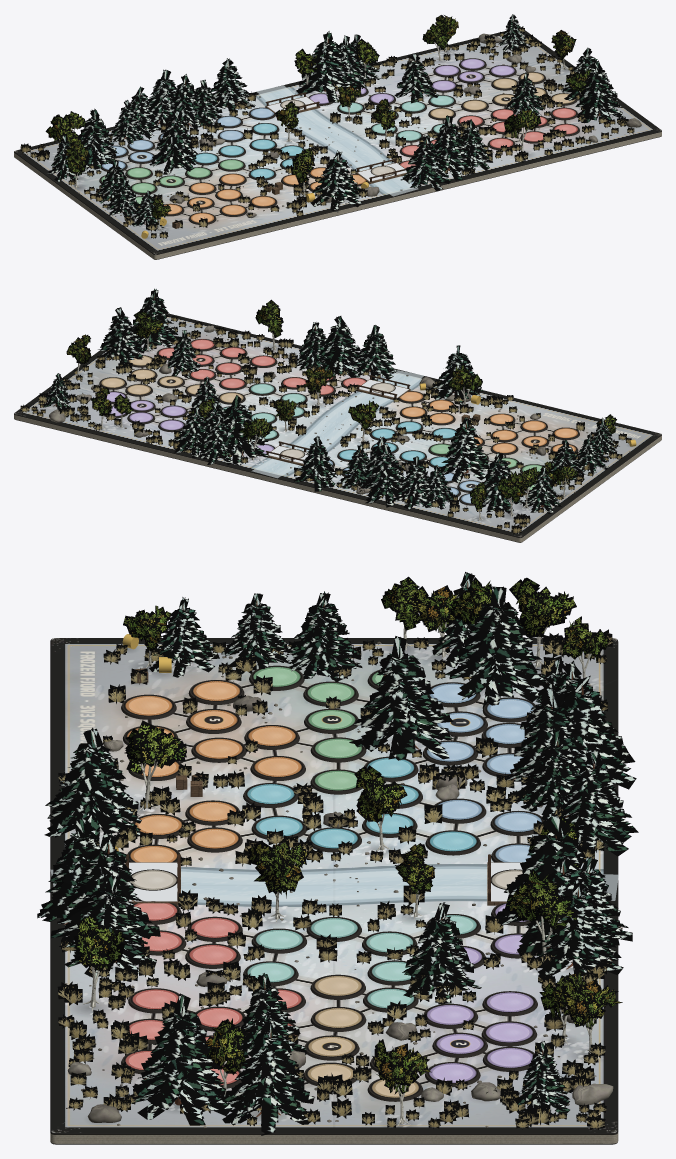
Rendered from fjord.glb.
3 renders of one model, top to bottom at view 1: azimuth 30°, elevation 25°; view 2: azimuth 150°, elevation 25°; view 3: azimuth 270°, elevation 25°, orthographic. The views are drawn at different scales.
Parts seen in each view (by area): view 1: scenery (×10), board (×2); view 2: scenery (×9), board (×2); view 3: scenery (×14), board (×27).
Boxes of the visible parts, box(x1,y1,x2,y2) form: scenery (×10): box(20, 14, 641, 238); board (×2): box(14, 30, 661, 259); scenery (×9): box(20, 288, 631, 534); board (×2): box(14, 313, 661, 542); scenery (×14): box(37, 572, 638, 1135); board (×27): box(50, 638, 618, 1144).
Size of the model in its own units: 16.87 by 2.02 by 8.64.
29 materials, 22 textured.
